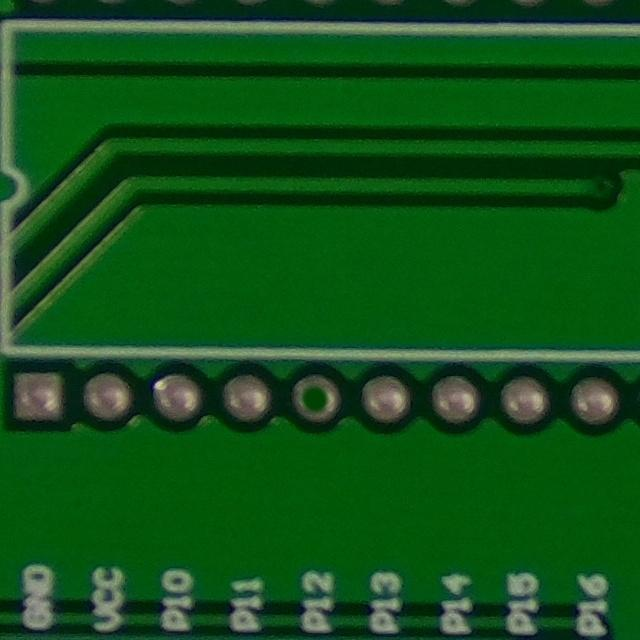missing_hole: (279, 358, 354, 445)
